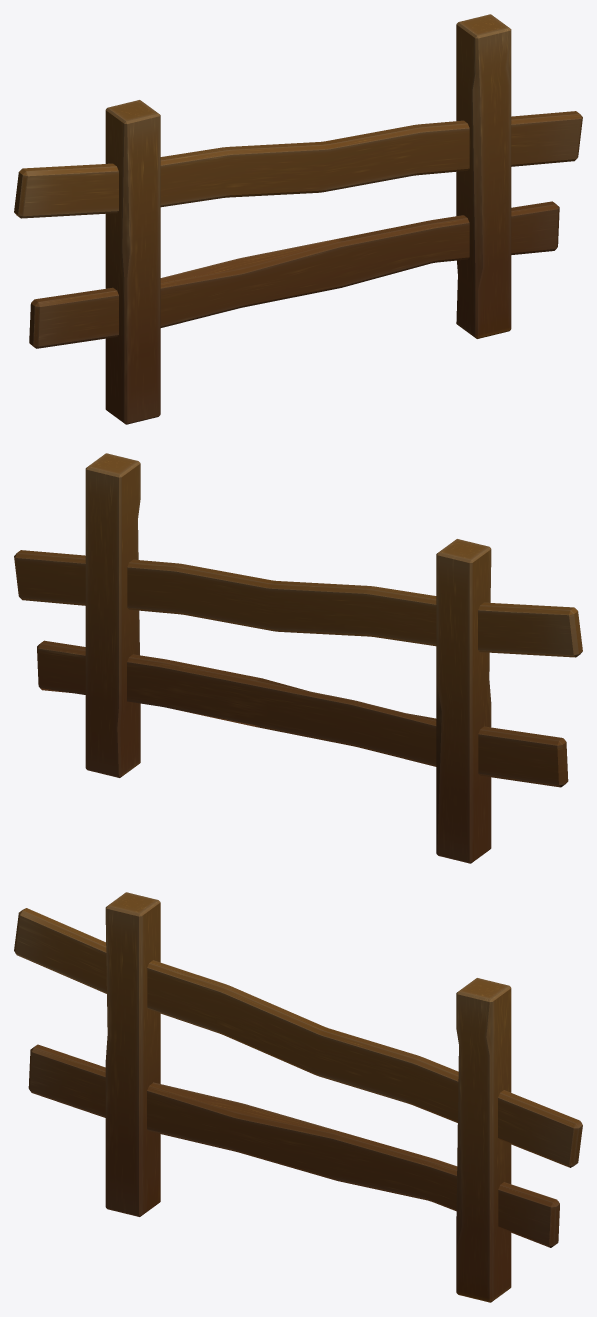
File: fence.fbx
The picture shows the model from 3 angles, top to bottom: view 1: azimuth 30°, elevation 25°; view 2: azimuth 150°, elevation 25°; view 3: azimuth 330°, elevation 25°; orthographic projection.
Visible parts, largest first — view 1: pCube4.001, pCube3.001, pCube1.001, pCube2.001; view 2: pCube4.001, pCube3.001, pCube2.001, pCube1.001; view 3: pCube4.001, pCube3.001, pCube2.001, pCube1.001.
Part boxes in pixels (x1,y1,x2,y2): pCube4.001: (14,111,582,218); pCube3.001: (29,201,559,348); pCube1.001: (456,14,511,338); pCube2.001: (105,100,160,424); pCube4.001: (14,550,582,657); pCube3.001: (37,640,568,787); pCube2.001: (436,539,491,863); pCube1.001: (85,453,140,777); pCube4.001: (14,908,582,1167); pCube3.001: (28,1044,559,1247); pCube2.001: (105,892,160,1216); pCube1.001: (456,978,511,1302).
Bounding box in the file's own units: 1.5 × 12 × 23.39.
Materials: 1 (1 with a texture image).
